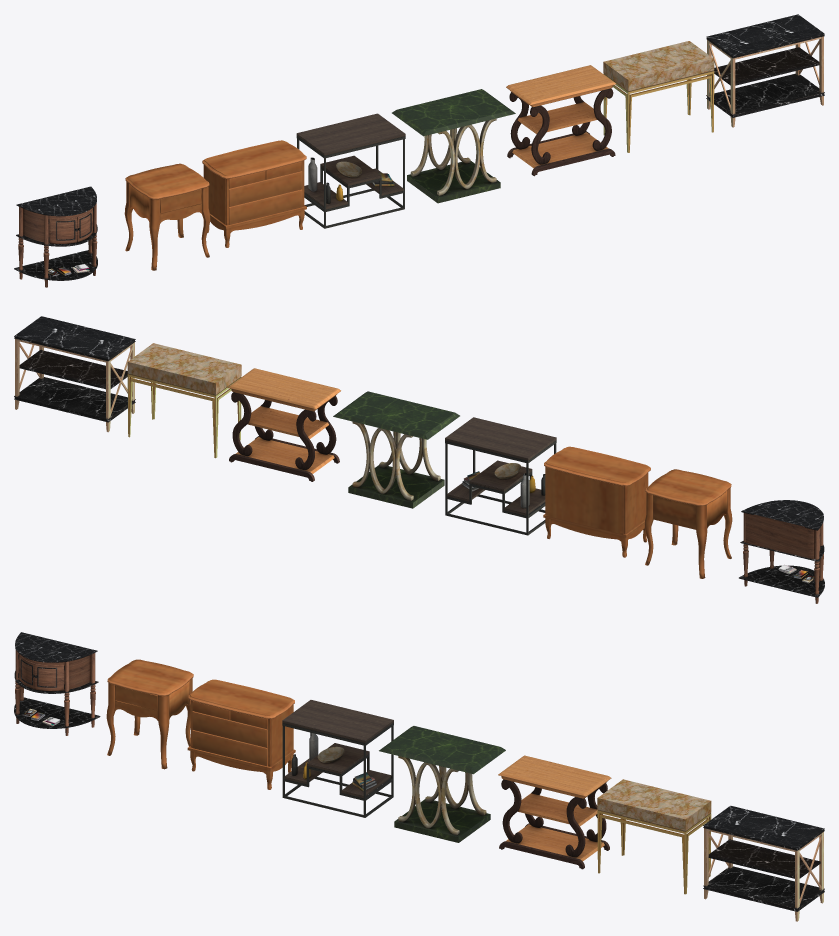
The model's file is console_table.fbx.
3 renders of one model, top to bottom at view 1: azimuth 30°, elevation 25°; view 2: azimuth 150°, elevation 25°; view 3: azimuth 330°, elevation 25°, orthographic. The views are drawn at different scales.
Parts seen in each view (by area): view 1: Sannois Console Table, table_1, Janousek Console Table, Hinsdale Console Table, Benfield Console Table, Evert Console Table, Keely Console Table, table_2; view 2: Sannois Console Table, table_1, Janousek Console Table, Hinsdale Console Table, Benfield Console Table, Evert Console Table, table_2, Keely Console Table; view 3: Sannois Console Table, table_1, Janousek Console Table, Hinsdale Console Table, Benfield Console Table, Evert Console Table, Keely Console Table, table_2.
Part boxes in pixels (x1=…): Sannois Console Table: x1=706, y1=14, x2=824, y2=127; table_1: x1=202, y1=140, x2=306, y2=247; Janousek Console Table: x1=506, y1=65, x2=616, y2=176; Hinsdale Console Table: x1=392, y1=89, x2=515, y2=203; Benfield Console Table: x1=296, y1=113, x2=405, y2=228; Evert Console Table: x1=14, y1=186, x2=97, y2=287; Keely Console Table: x1=603, y1=41, x2=714, y2=152; table_2: x1=124, y1=163, x2=210, y2=270; Sannois Console Table: x1=14, y1=316, x2=135, y2=432; table_1: x1=543, y1=446, x2=650, y2=557; Janousek Console Table: x1=227, y1=368, x2=340, y2=481; Hinsdale Console Table: x1=333, y1=391, x2=459, y2=508; Benfield Console Table: x1=445, y1=417, x2=556, y2=535; Evert Console Table: x1=739, y1=500, x2=824, y2=603; table_2: x1=644, y1=469, x2=732, y2=578; Keely Console Table: x1=127, y1=343, x2=241, y2=458; Sannois Console Table: x1=703, y1=805, x2=824, y2=921; table_1: x1=187, y1=679, x2=295, y2=789; Janousek Console Table: x1=498, y1=755, x2=611, y2=869; Hinsdale Console Table: x1=379, y1=726, x2=505, y2=842; Benfield Console Table: x1=282, y1=700, x2=393, y2=817; Evert Console Table: x1=14, y1=632, x2=100, y2=735; Keely Console Table: x1=597, y1=779, x2=711, y2=894; table_2: x1=106, y1=659, x2=193, y2=769.
Bounding box in the file's own units: 9.8 × 0.9014 × 0.7087.
